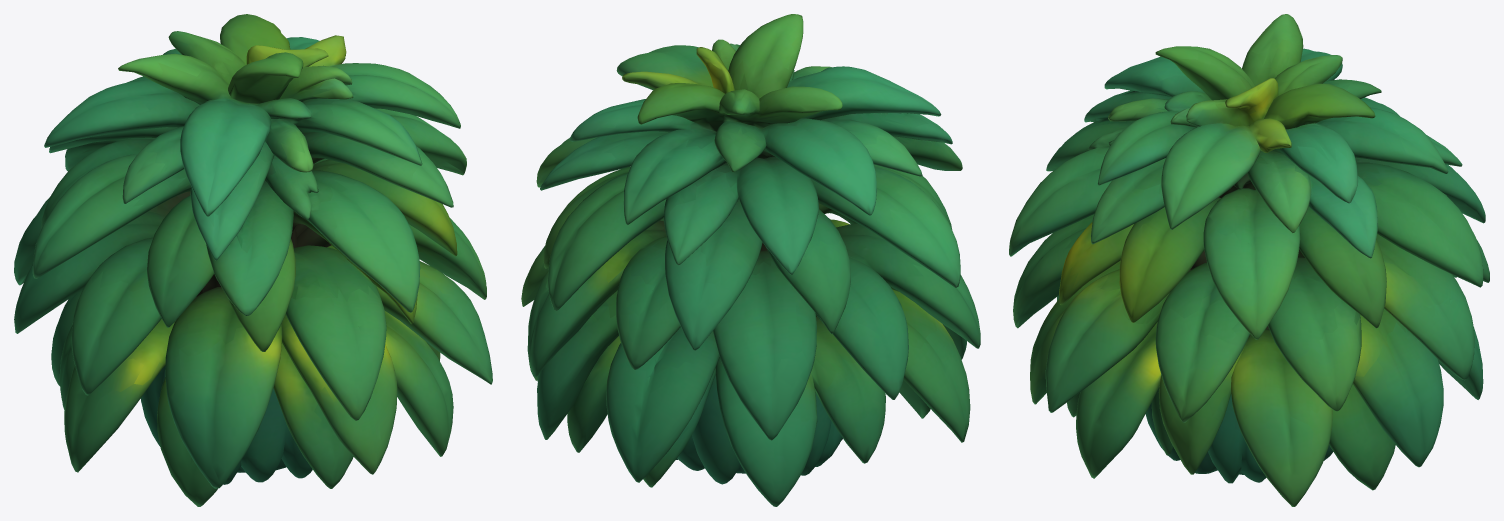
The model's file is bush_broadleaf.glb.
3 views of the same model, side by side, from view 1: azimuth 30°, elevation 25°; view 2: azimuth 150°, elevation 25°; view 3: azimuth 270°, elevation 25° (orthographic). The views are drawn at different scales.
Visible parts, largest first — view 1: tripo_node_1837ec05-f9a9-4f14-8111-d92840d6dfb8; view 2: tripo_node_1837ec05-f9a9-4f14-8111-d92840d6dfb8; view 3: tripo_node_1837ec05-f9a9-4f14-8111-d92840d6dfb8.
Part boxes in pixels (left/top/right/bottom): tripo_node_1837ec05-f9a9-4f14-8111-d92840d6dfb8: left=14, top=14, right=492, bottom=506; tripo_node_1837ec05-f9a9-4f14-8111-d92840d6dfb8: left=521, top=14, right=980, bottom=506; tripo_node_1837ec05-f9a9-4f14-8111-d92840d6dfb8: left=1009, top=14, right=1489, bottom=506.
Size of the model in its own units: 1.08 by 0.9999 by 1.07.
1 material, 1 textured.
